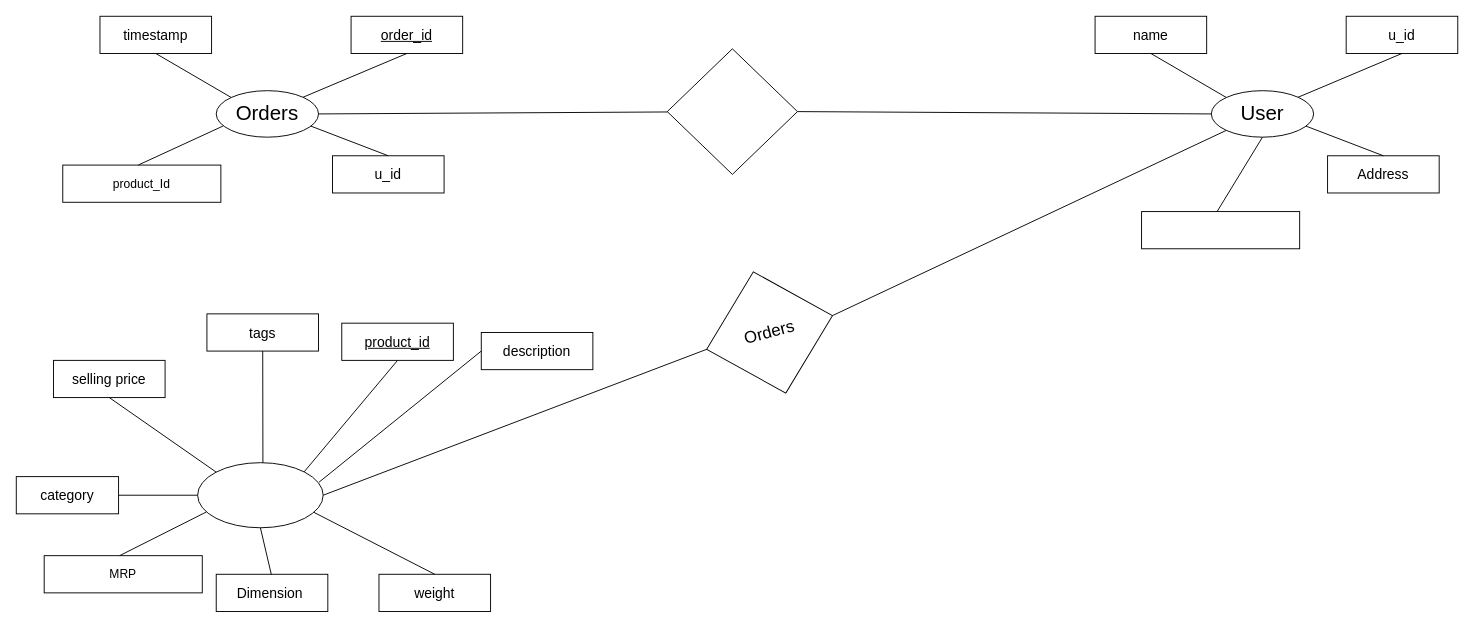
This 1474x628 diagram has some shape labels left out. The centre of each missing label's shape, as x and y in pixels:
Place: pixel 731 111
Product: pixel 260 495
registered phone number: pixel 1220 230
